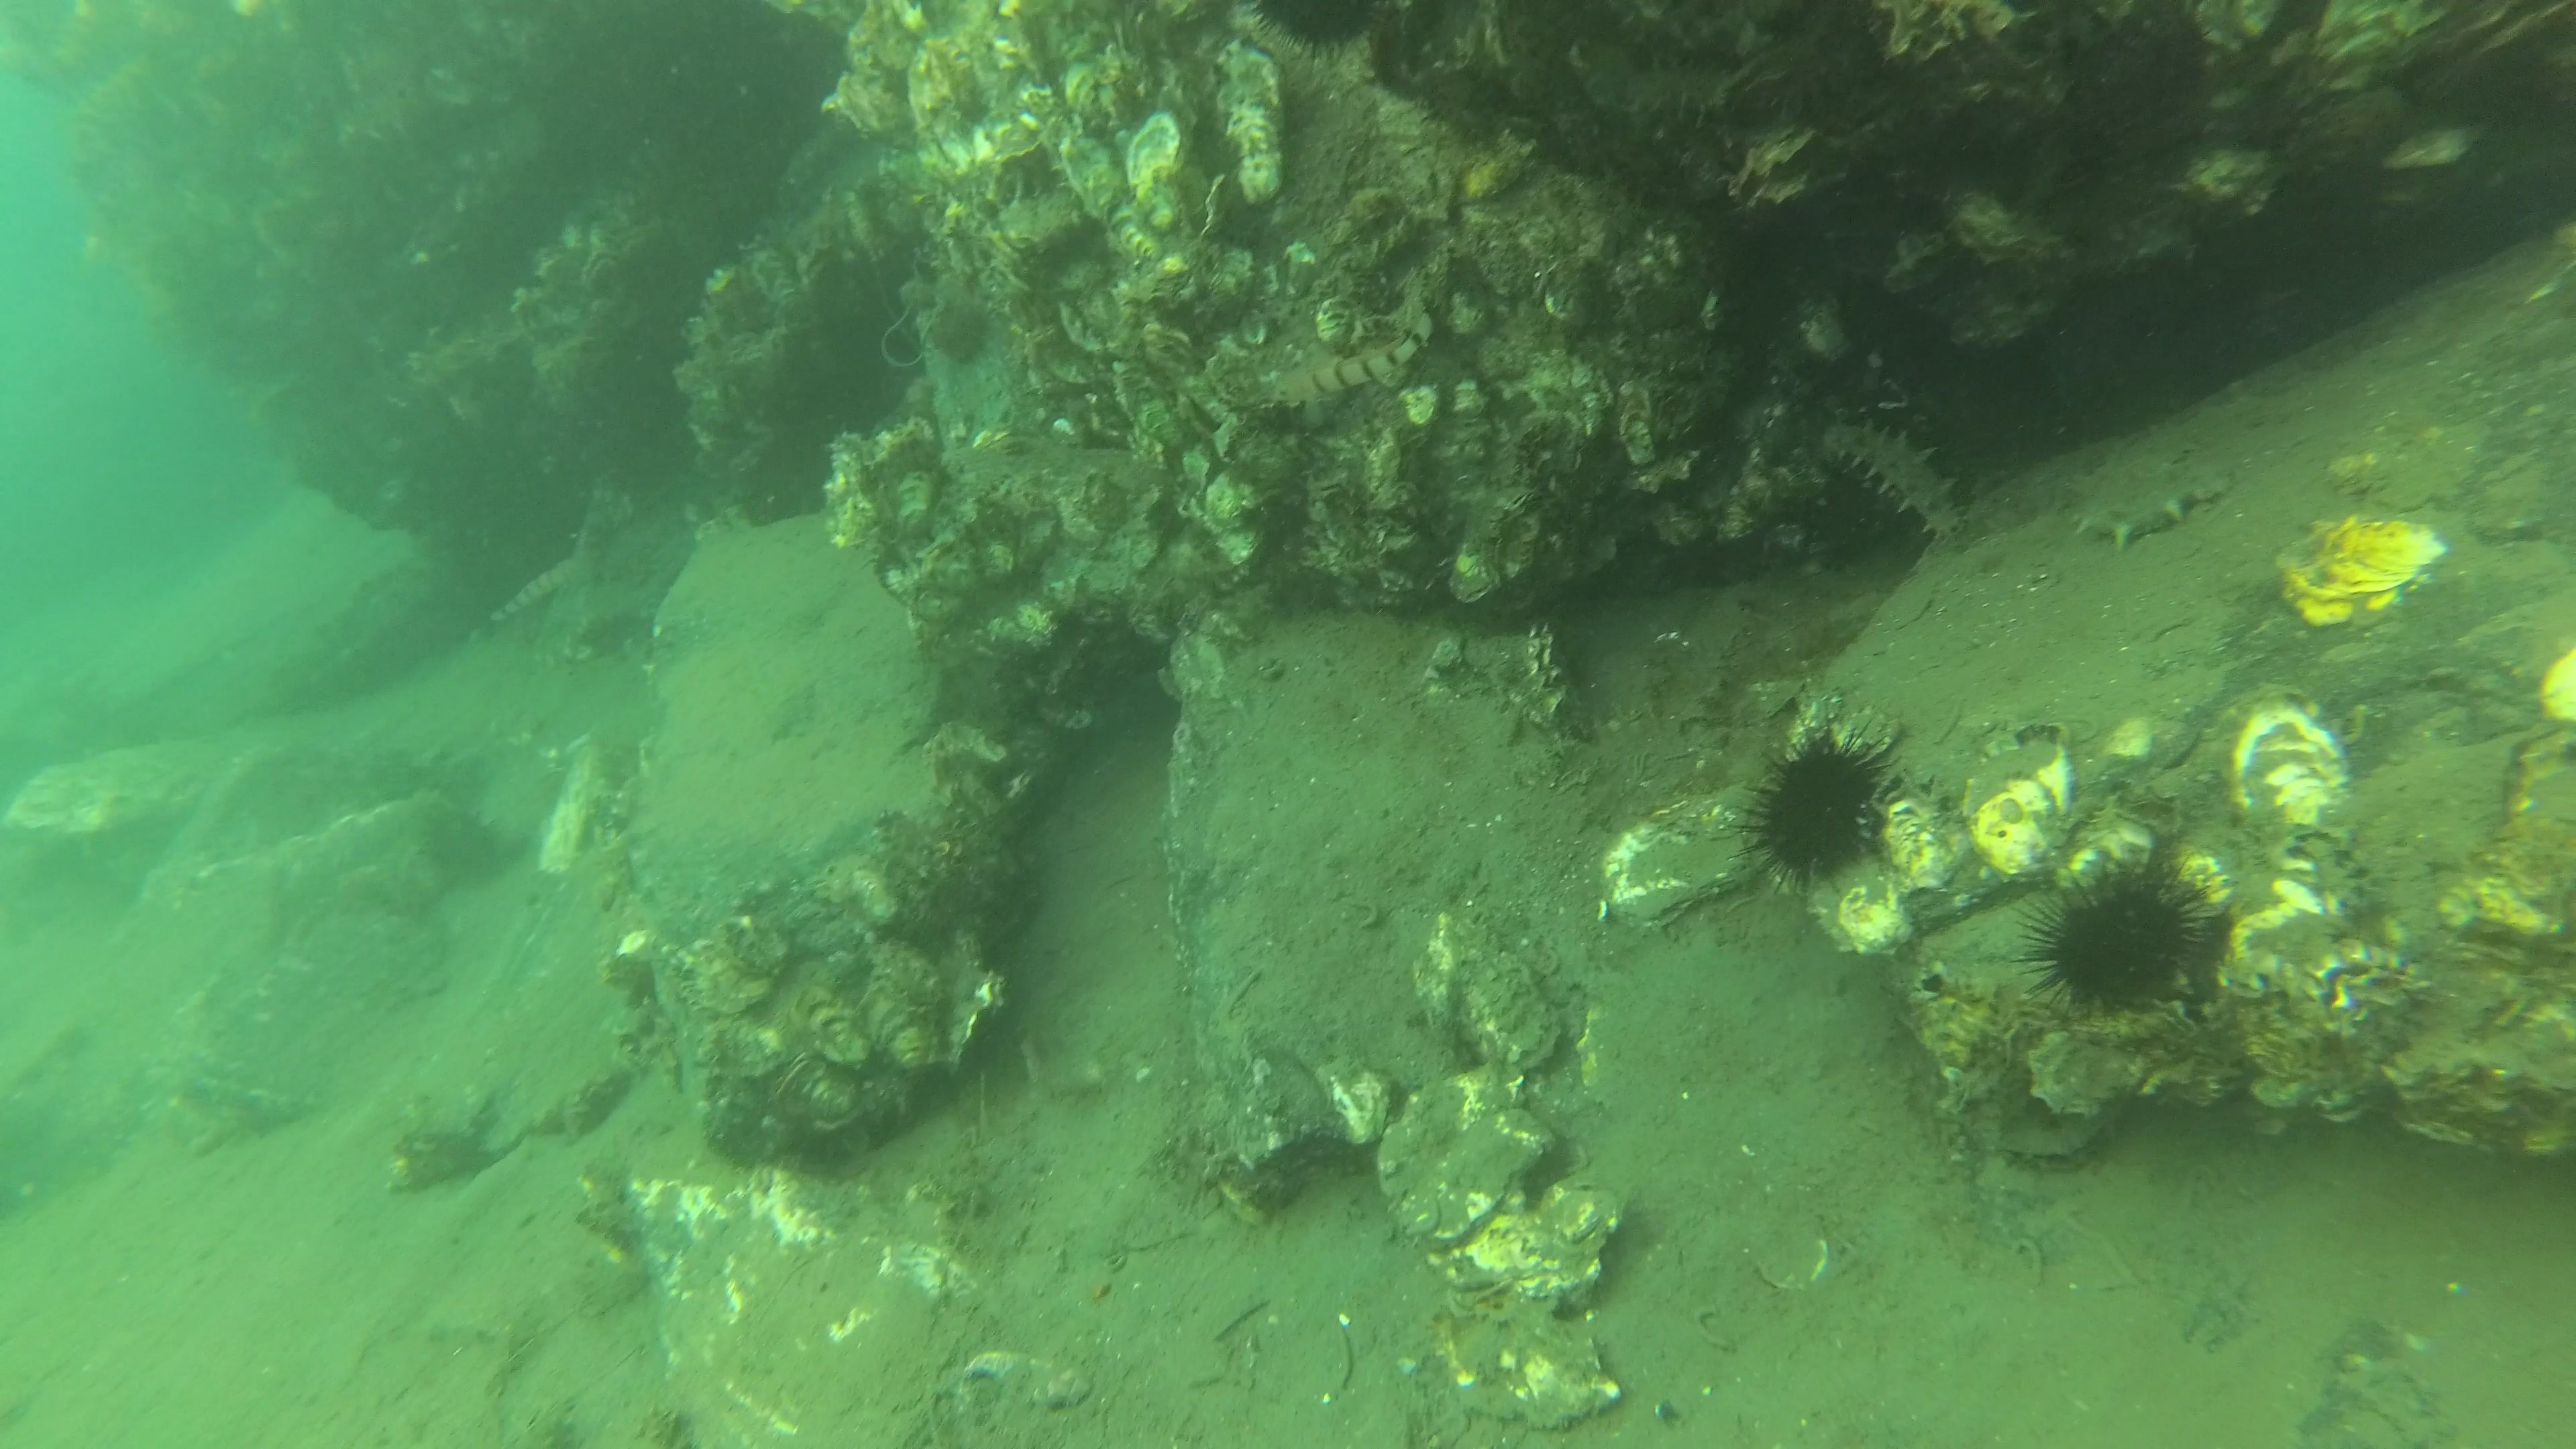echinus: (2013, 856, 2219, 1024), (1727, 717, 1904, 893), (1244, 0, 1396, 64)
holothurian: (1812, 405, 1976, 556), (2063, 465, 2245, 556)
